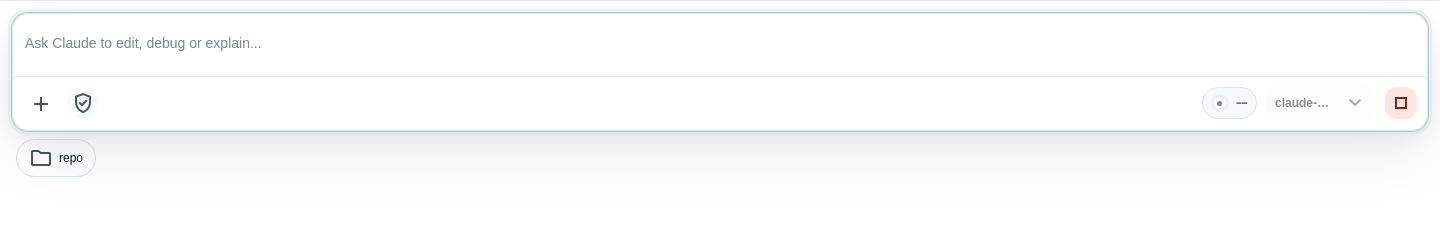
Scenario: ChatInput file mentions › queues prompts submitted while a turn is running until the user guides them
The image size is (1440, 227).
In the text box: point(720, 44) x1=25 y1=26 x2=1415 y2=61, type "please adjust the current direction"
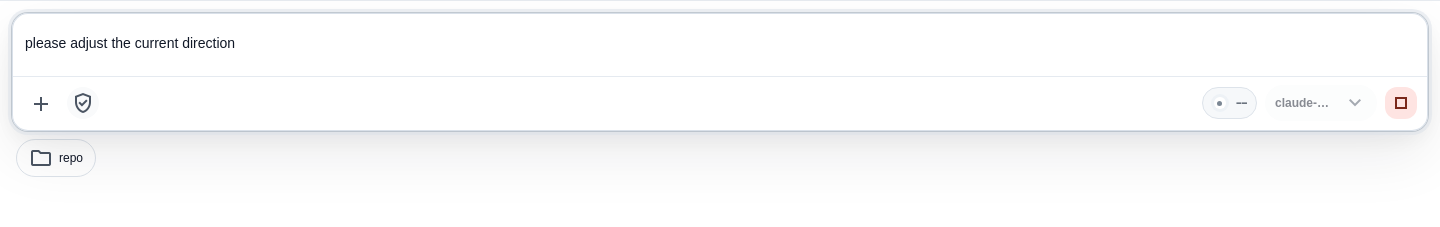
Press Enter in the text box, box x1=25 y1=26 x2=1415 y2=61
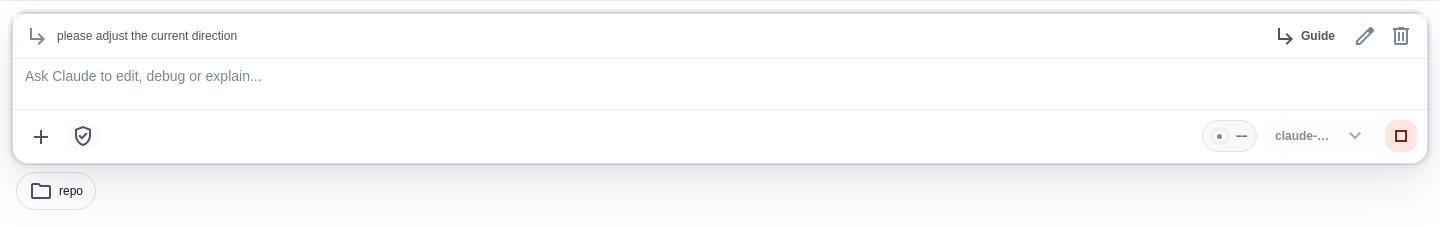
expect the text box is empty: met, box x1=25 y1=59 x2=1415 y2=94
expect the element with test id "pending-user-message" shows "please adjust the current direction": met, box x1=57 y1=29 x2=237 y2=43
Click the button with aria-label "Guide now": point(1304, 36) x1=1265 y1=22 x2=1343 y2=50
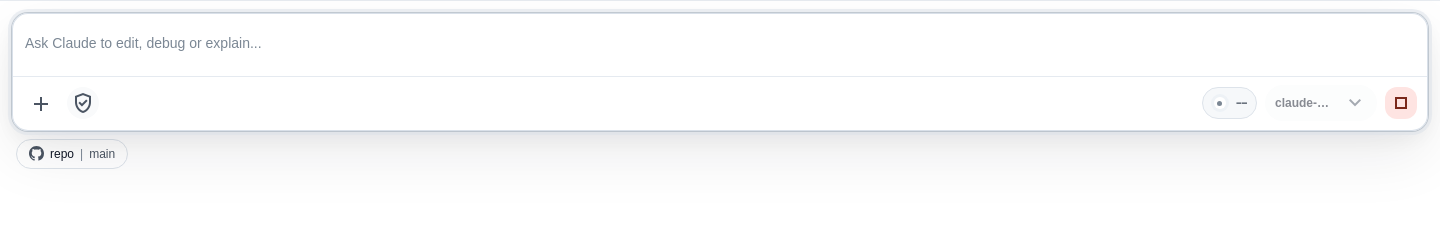
expect the element with test id "pending-user-message" is gone: met
